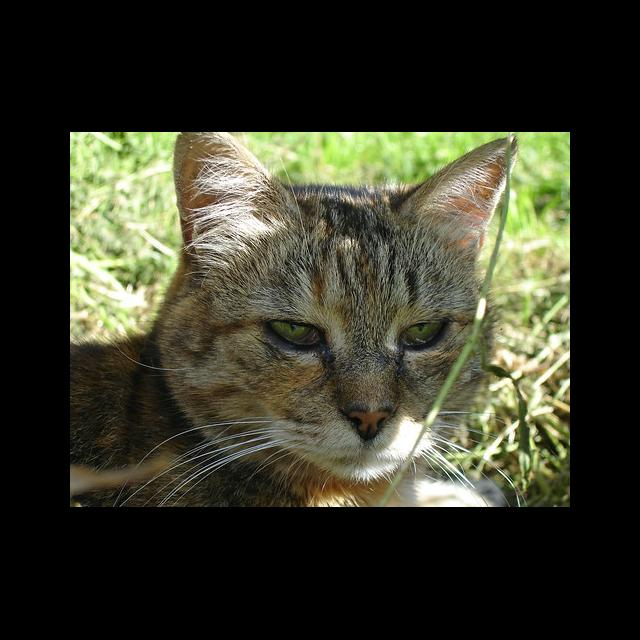animals: (70, 132, 517, 508)
